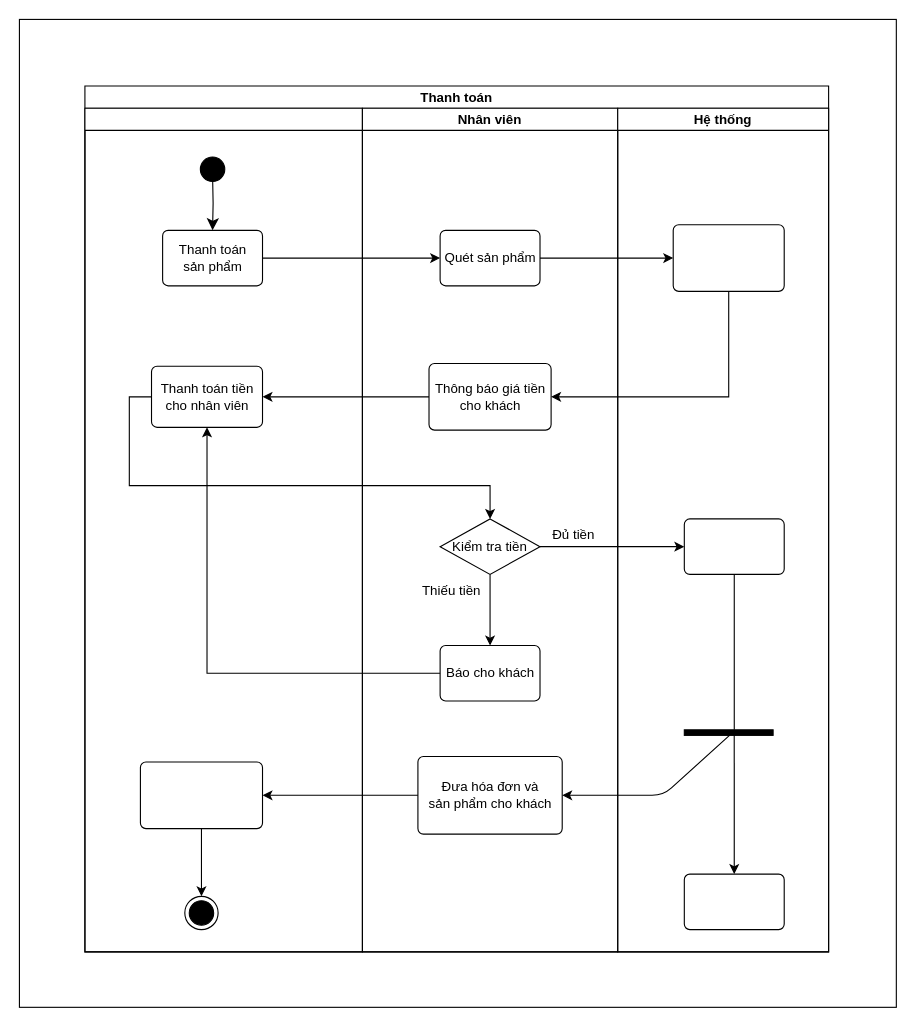
Some shapes in this 916 by 1027 pixel diagram are drawn without their labels. The box of each missing label's shape, as (x1, y1, x2, y2) in pixels:
In hóa đơn: (683, 518, 784, 574)
Khách hàng: (84, 107, 362, 952)
Lưu đơn hàng: (683, 873, 784, 930)
Nhận hóa đơn và sản phẩm: (139, 761, 263, 829)
Tính giá tiền và hiển thị ra màn hình: (672, 224, 784, 291)
